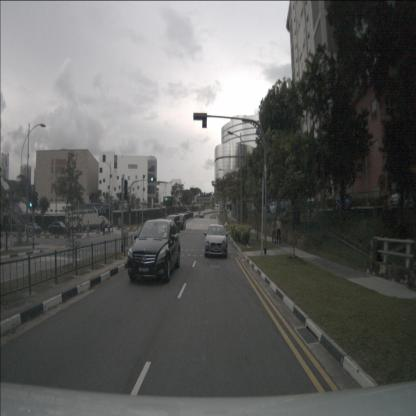human-pedestrian-adult: (276, 216, 282, 244), (272, 218, 276, 244), (86, 220, 90, 238), (102, 216, 105, 235), (108, 217, 110, 234)
vehicle-bus-rigid: (65, 203, 112, 234), (213, 204, 221, 211)
vehicle-car: (127, 219, 181, 283), (204, 224, 228, 258), (389, 188, 413, 208), (335, 192, 355, 211), (162, 214, 180, 234), (48, 221, 70, 236), (26, 223, 42, 234), (176, 215, 186, 230), (277, 200, 288, 212), (270, 202, 280, 214), (200, 210, 204, 218), (186, 210, 190, 218)
